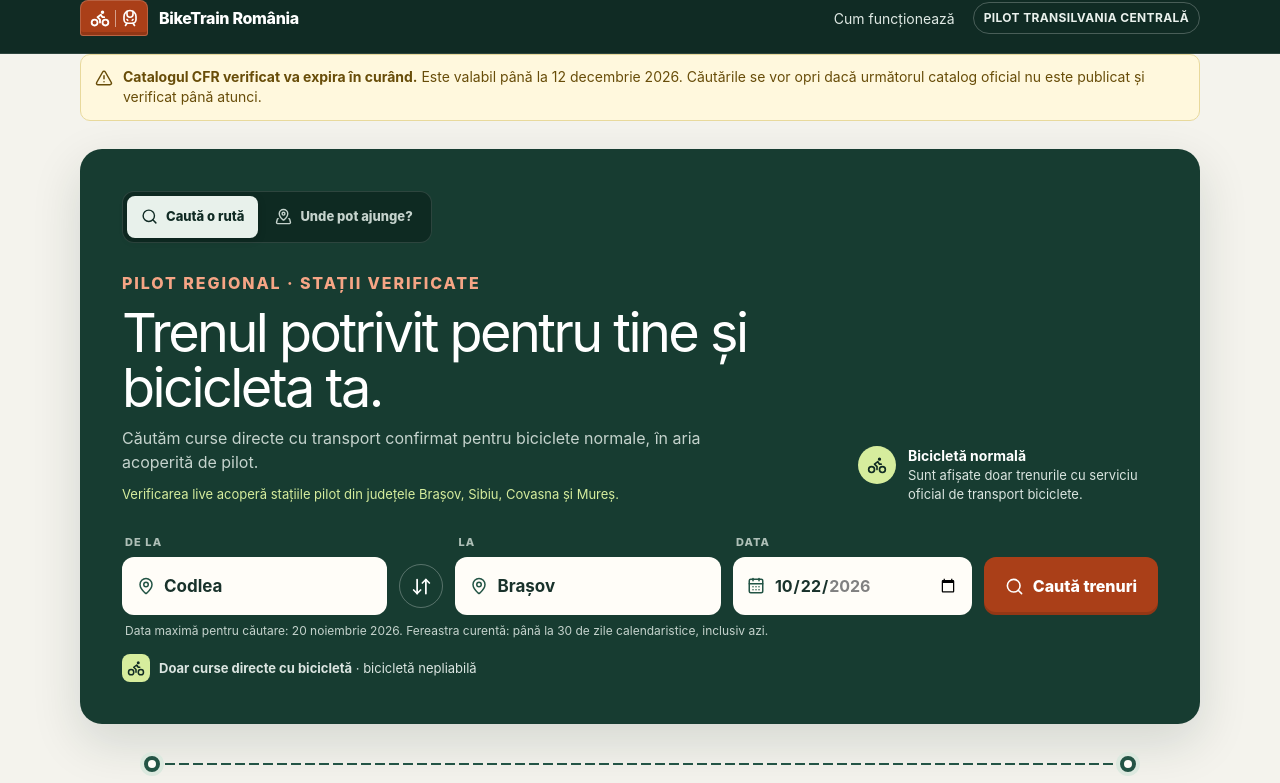
Scenario: BikeTrain app › does not show an outage warning for unsupported destination discovery
This screenshot has width=1280, height=783.
Click the tab "Unde pot ajunge?" at (344, 217), box [261,196,427,238]
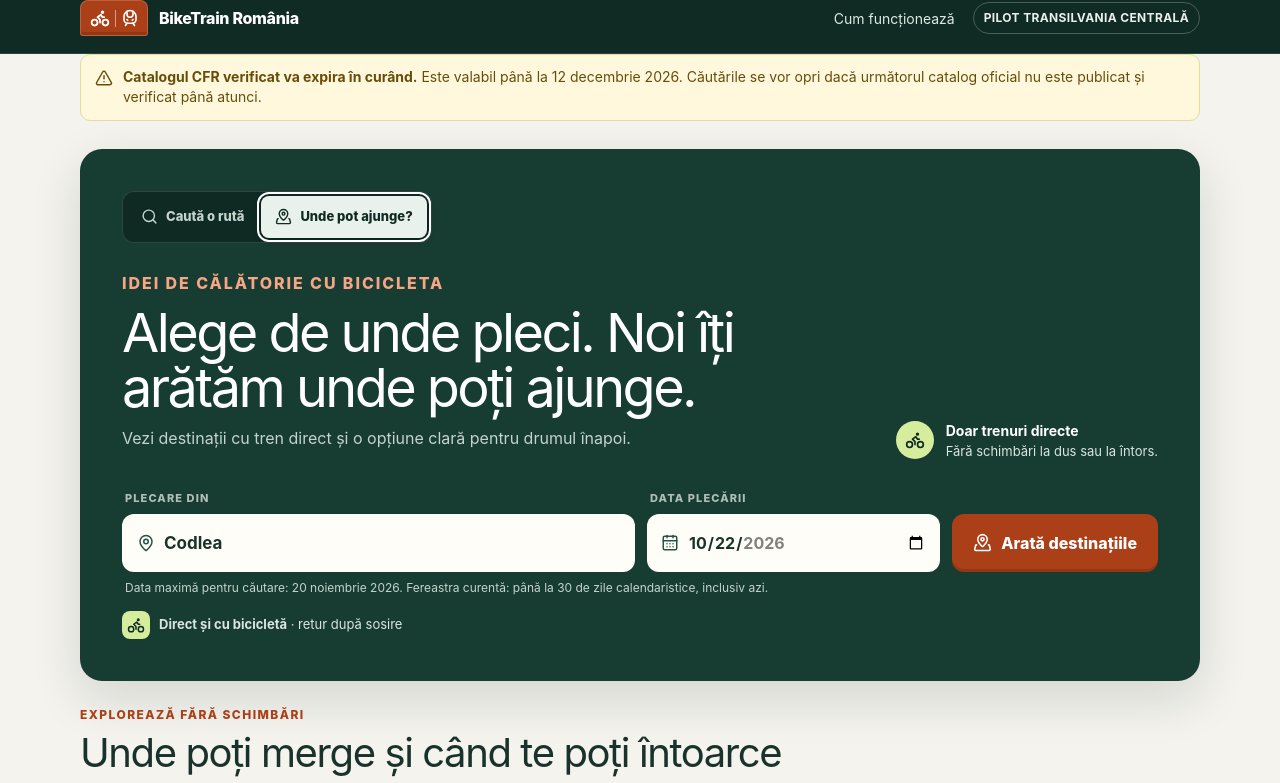
Click the button "Arată destinațiile" at (1055, 543), box [952,514,1158,572]
(page scrolled)
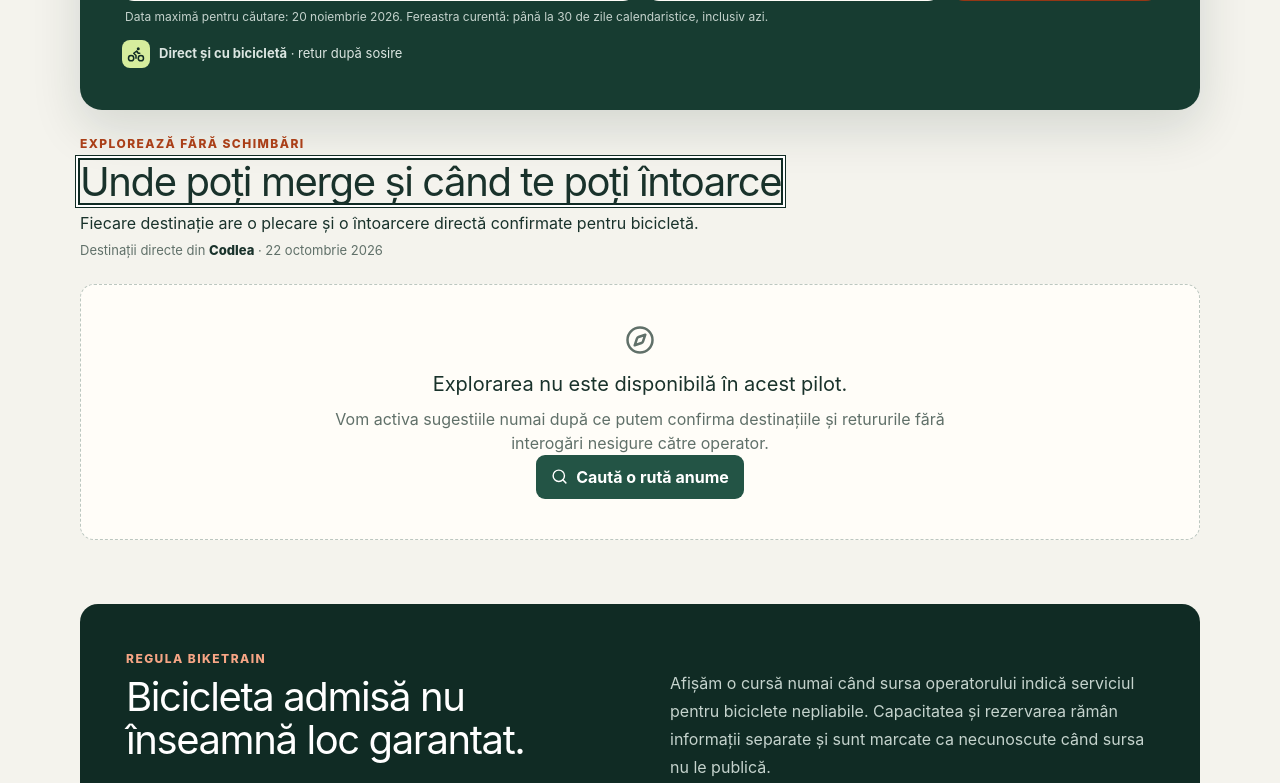
Expected: the heading "Explorarea nu este disponibilă în acest pilot." is shown, [433,369,847,399]
